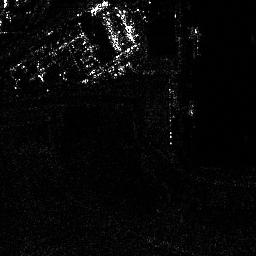ship: (189, 24, 201, 58)
